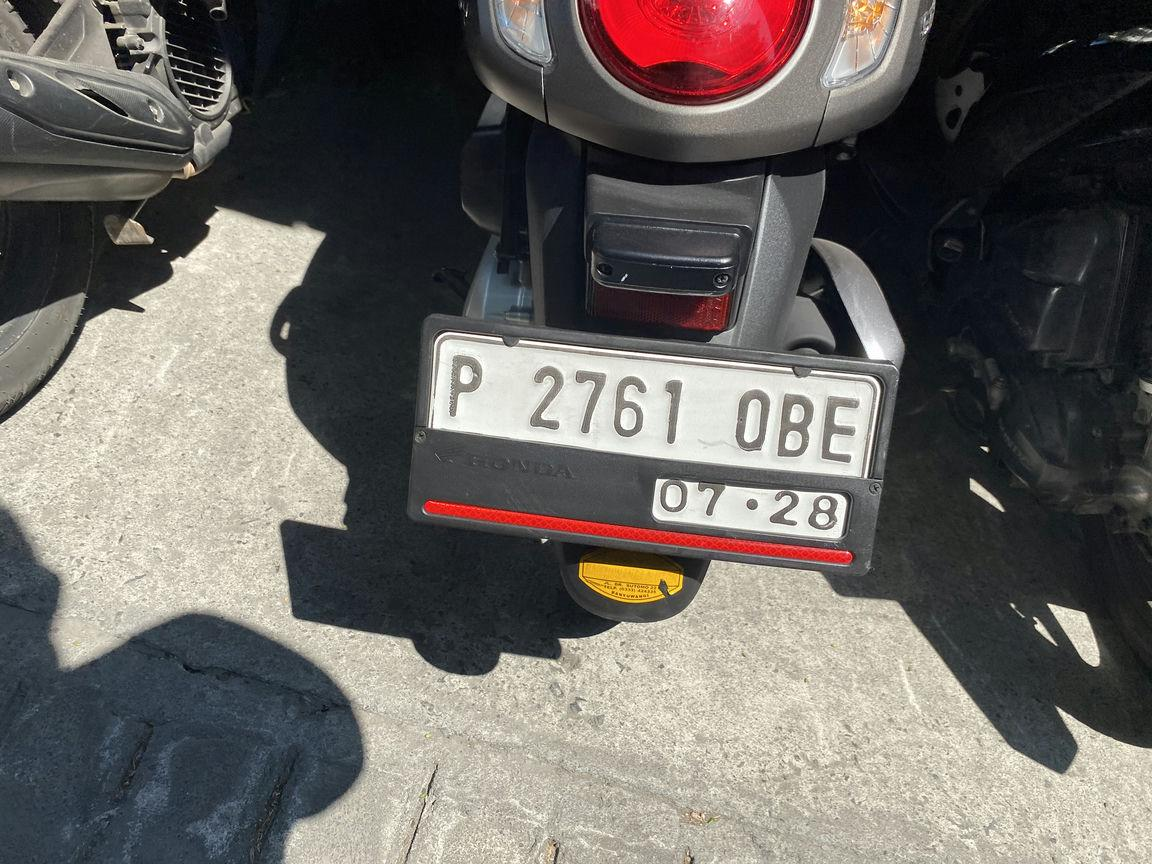plat: (419, 319, 895, 575)
